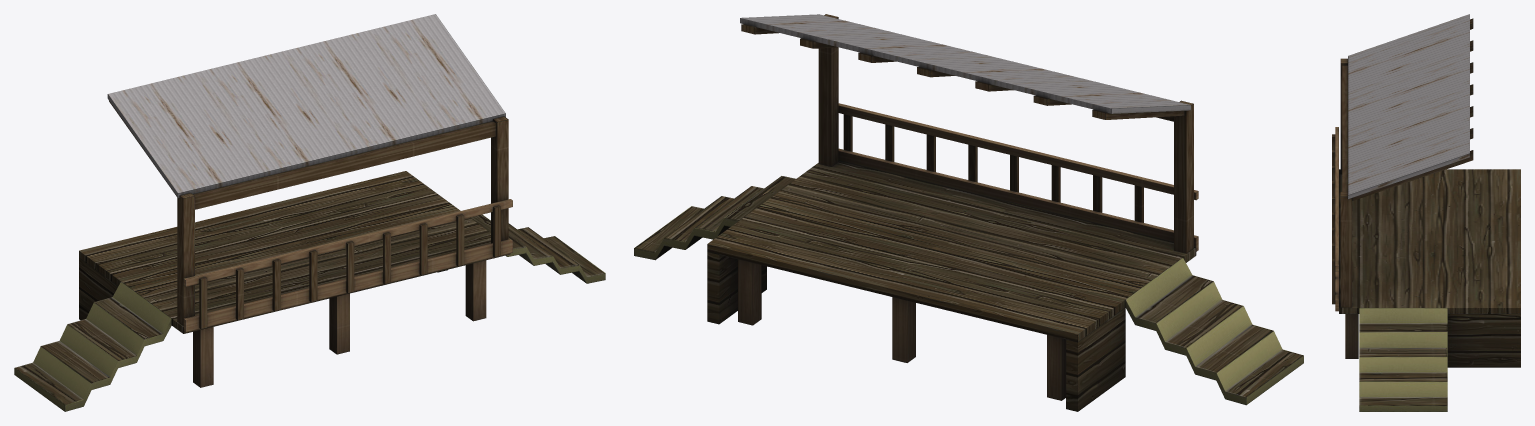
File: blind.fbx
3 views of the same model, side by side, from view 1: azimuth 30°, elevation 25°; view 2: azimuth 150°, elevation 25°; view 3: azimuth 270°, elevation 25° (orthographic). The views are drawn at different scales.
Visible parts, largest first — view 1: polySurface6; view 2: polySurface6; view 3: polySurface6.
Part boxes in pixels (box(x1,y1,x2,y2)): polySurface6: box(14, 14, 605, 411); polySurface6: box(634, 14, 1303, 411); polySurface6: box(1332, 14, 1520, 411).
Size of the model in its own units: 1573 by 686 by 547.
